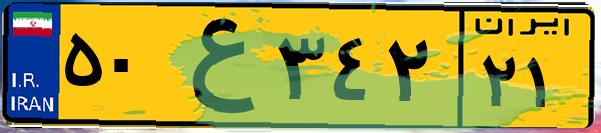0: (110, 28, 158, 98)
1: (525, 38, 570, 115)
2: (385, 28, 445, 110), (475, 38, 525, 113)
3: (270, 28, 330, 110)
4: (330, 28, 385, 110)
5: (57, 26, 110, 100)
ع: (158, 12, 270, 120)
